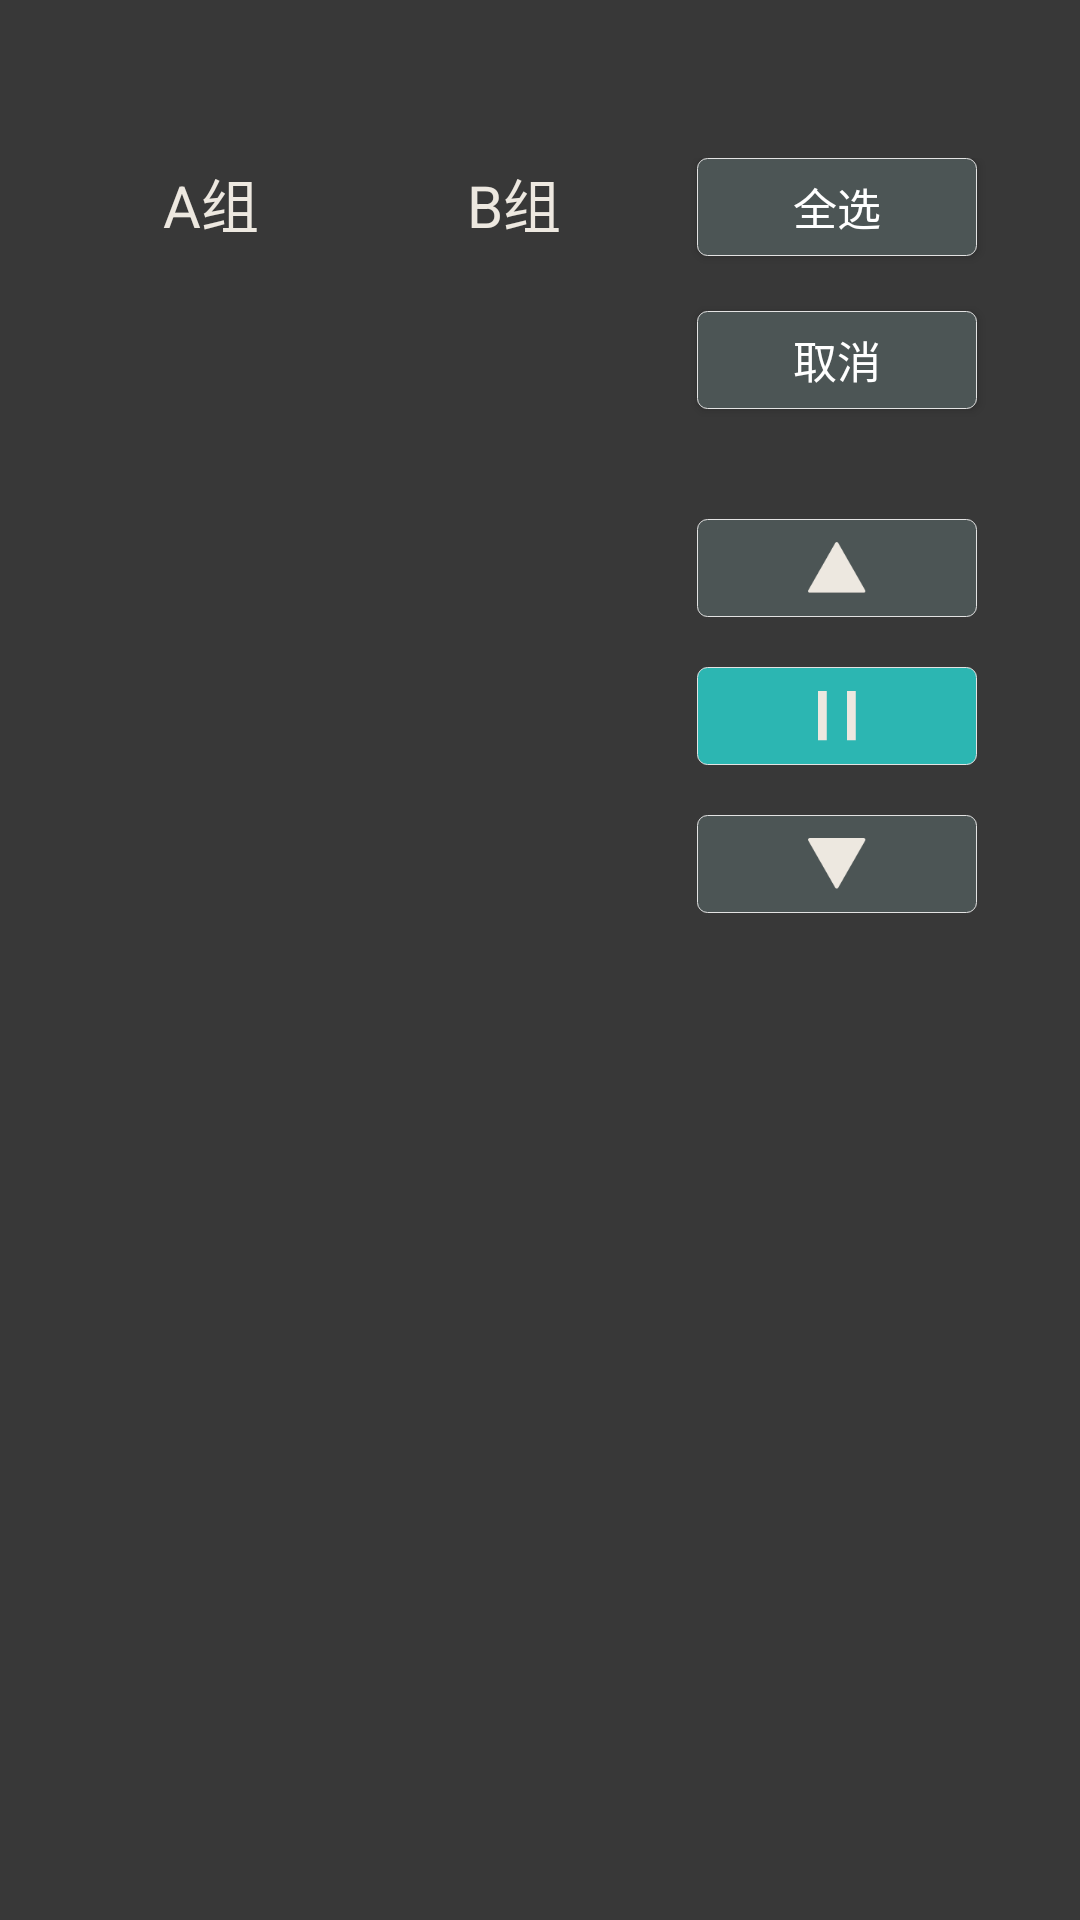

Where icons sit on this 1080*1920 app screen, as (x1=x1, y1=y1, x2=x2, y2=y2):
bottom: (x1=808, y1=838, x2=866, y2=889)
top: (x1=808, y1=542, x2=866, y2=593)
